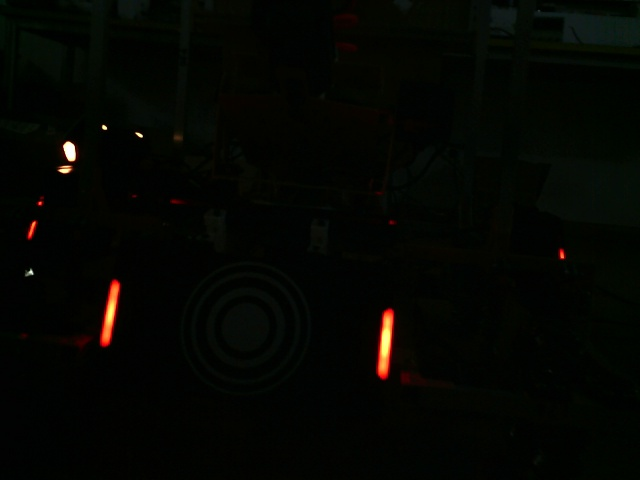lamp: (374, 307, 400, 379), (101, 276, 121, 350)
